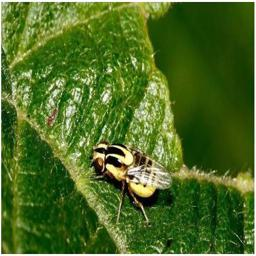liriomyza: (81, 136, 173, 224)
